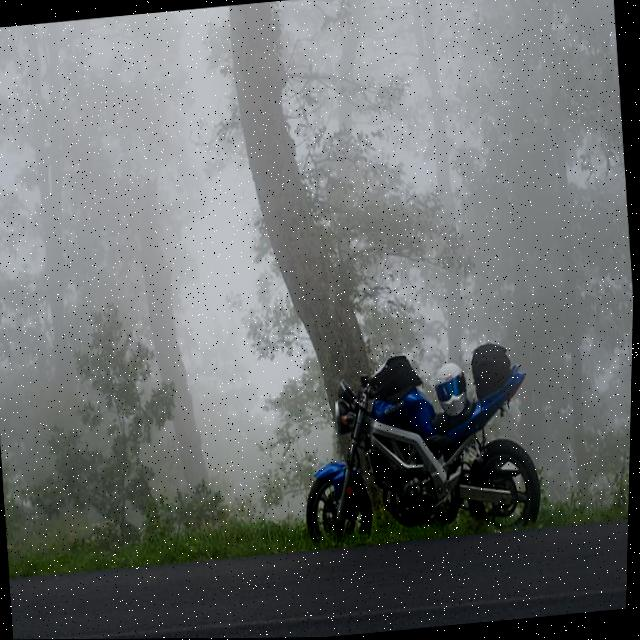motorcycle: (290, 339, 549, 560)
